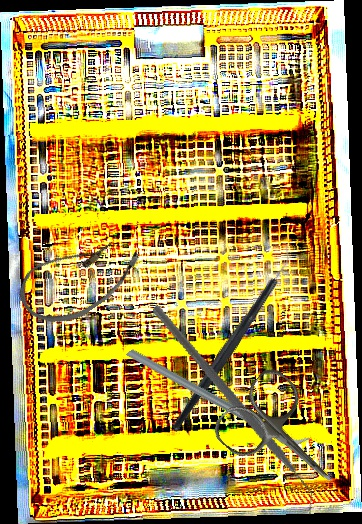Cannula: (9, 215, 150, 340)
Chopper: (107, 304, 358, 517), (123, 241, 339, 434), (125, 296, 311, 497)
Iris Scissors: (208, 363, 362, 515)
